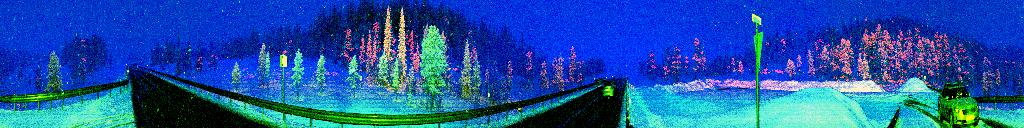pole: (629, 82, 631, 117), (488, 87, 490, 104), (126, 65, 129, 76), (184, 66, 186, 78)
